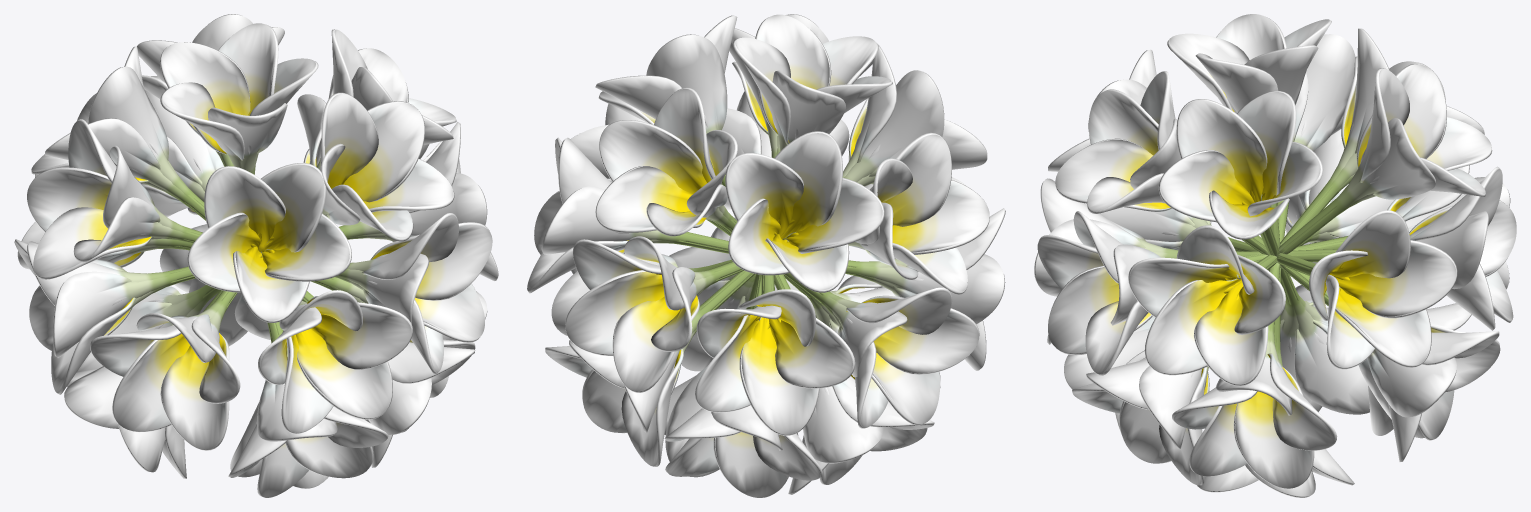
The model's file is uploads_files_2717727_Flower.glb.
3 views of the same model, side by side, from view 1: azimuth 30°, elevation 25°; view 2: azimuth 150°, elevation 25°; view 3: azimuth 270°, elevation 25° (orthographic).
Visible parts, largest first — view 1: Circle.021; view 2: Circle.021; view 3: Circle.021.
Boxes of the visible parts, x1,y1,x2,y2 form: Circle.021: (14, 14, 498, 497); Circle.021: (527, 14, 1005, 497); Circle.021: (1034, 14, 1516, 497).
Size of the model in its own units: 8.08 by 8.13 by 8.05.
Materials: 1 (1 with a texture image).
